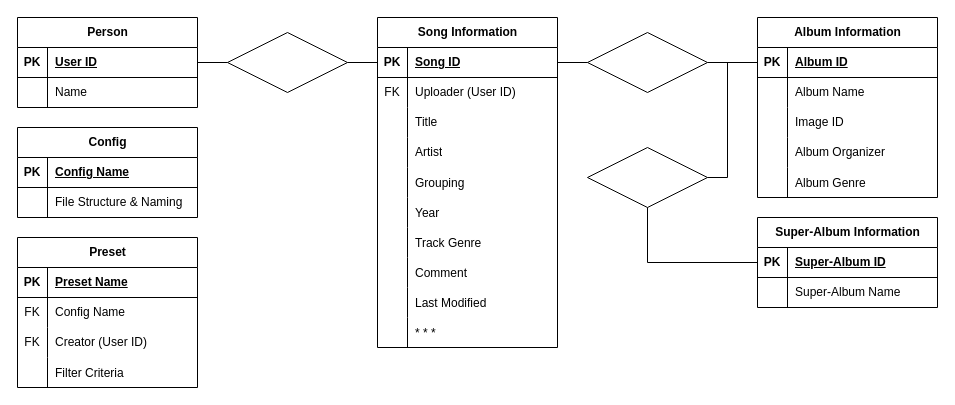
The diagram is 955 pixels wide and 405 high, and some of its shapes have lost their labels. The shapes that lost their labels are listed below. From the top down, each one's centre as x and y in pixels, then its label:
At pixel 287 62: "Listener".
At pixel 647 62: "Album Contents".
At pixel 647 177: "Super-Album Contents".
